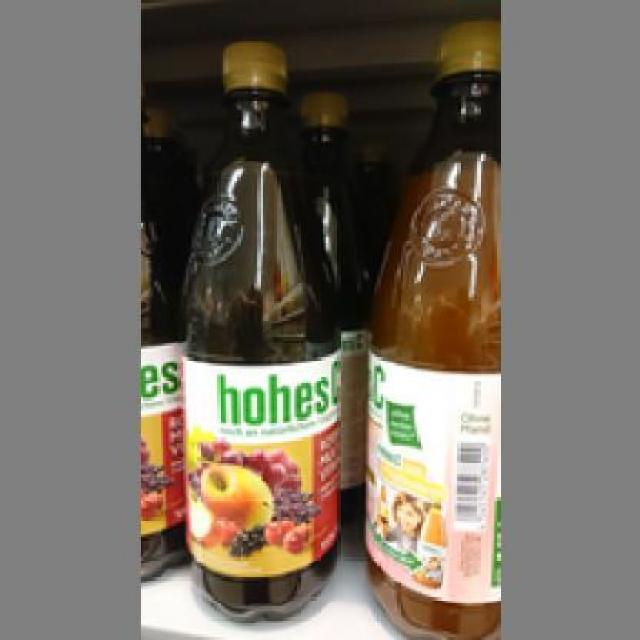Juice: (182, 34, 338, 620), (360, 17, 494, 634)
